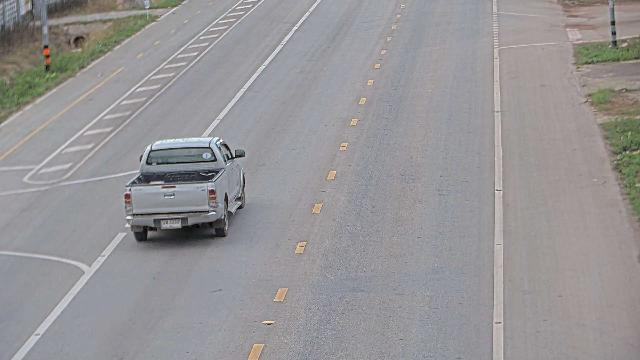pickup-truck: (123, 135, 246, 241)
